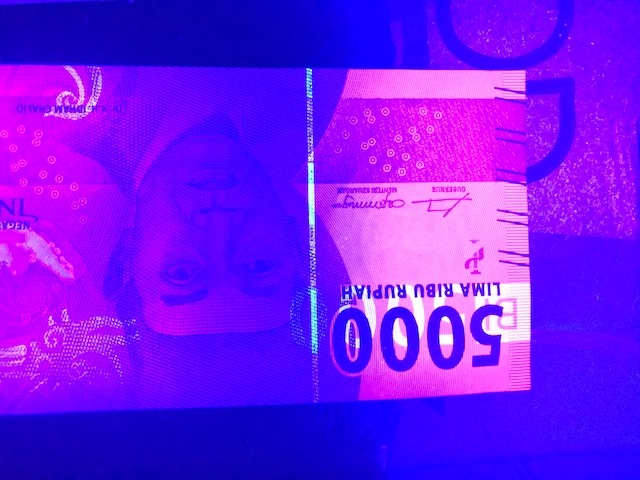5_RIBU_ASLI: (338, 279, 537, 352)
